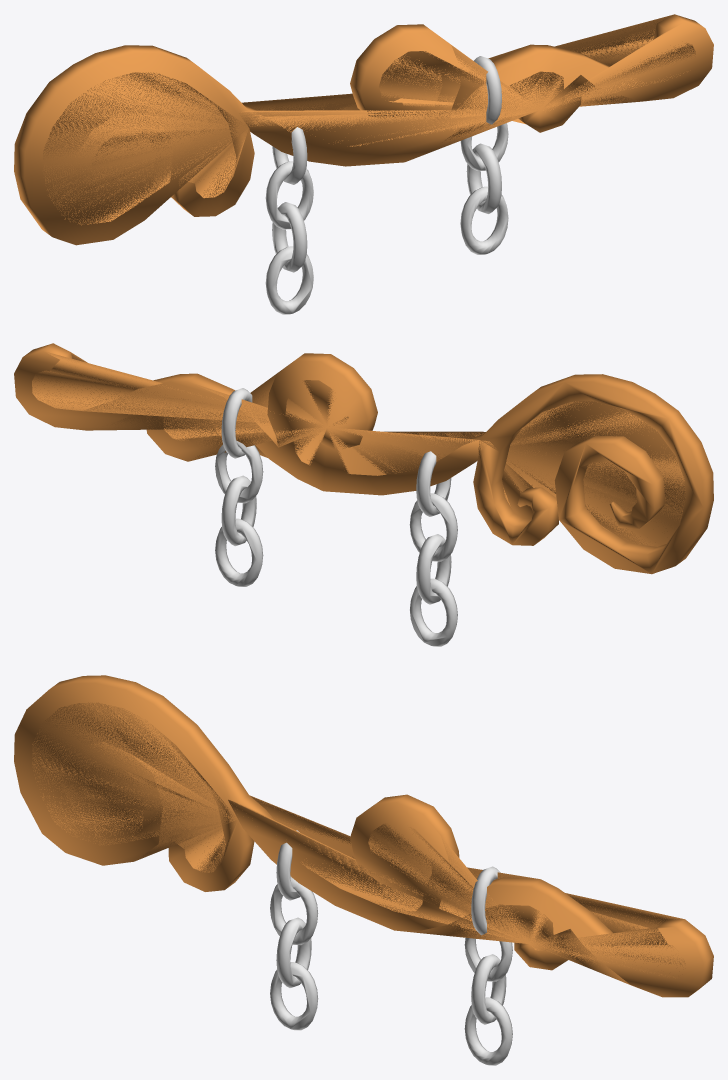
File: MetalSignHanger.fbx
3 views of the same model, one above another, from view 1: azimuth 30°, elevation 25°; view 2: azimuth 150°, elevation 25°; view 3: azimuth 330°, elevation 25° (orthographic).
Parts seen in each view (by area): view 1: Torus.036; view 2: Torus.036; view 3: Torus.036.
Boxes of the visible parts, box(x1,y1,x2,y2) form: Torus.036: box(14, 14, 713, 314); Torus.036: box(14, 343, 713, 646); Torus.036: box(14, 675, 713, 1065).
Size of the model in its own units: 210 by 89.04 by 14.07.
